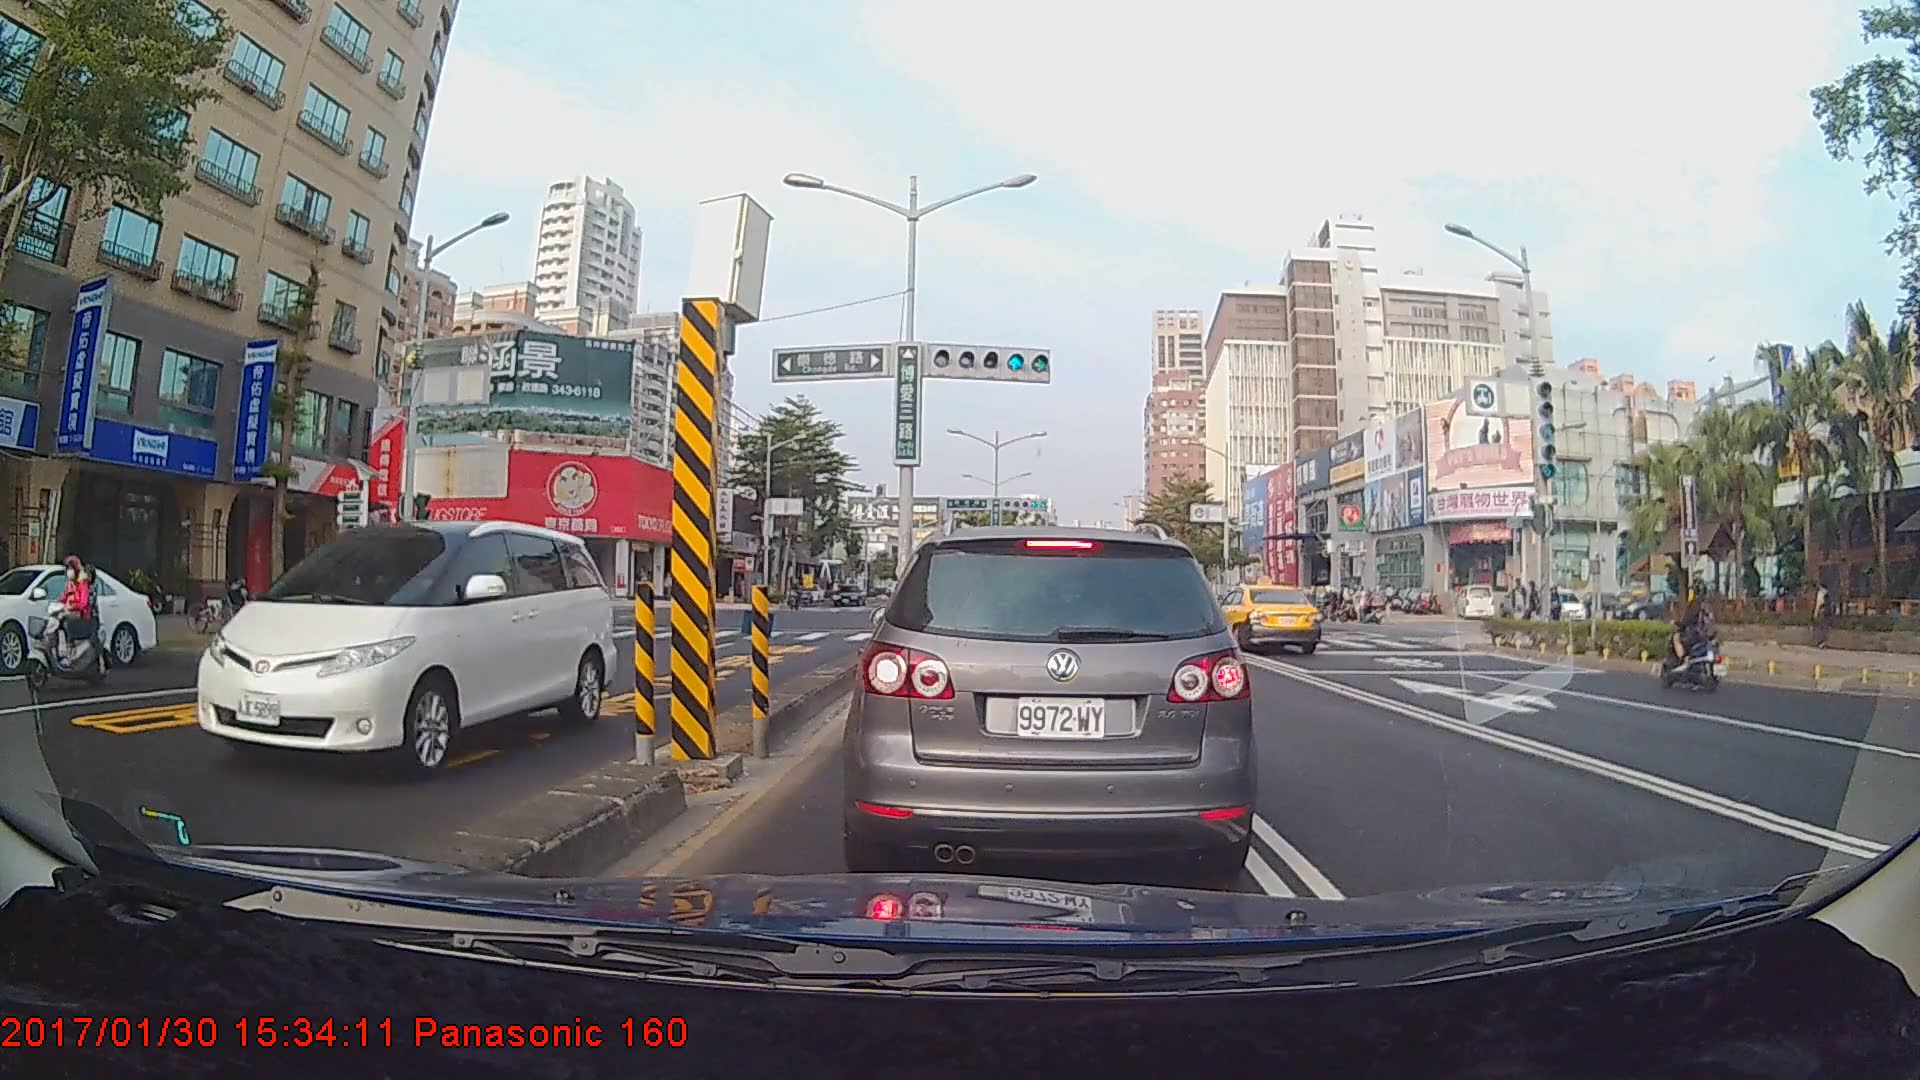pedestrian: (1811, 579, 1836, 648)
rider: (28, 557, 113, 694), (1656, 579, 1736, 697)
vehicle: (856, 520, 1249, 879), (193, 519, 618, 772), (0, 561, 158, 671), (1205, 581, 1322, 656)
